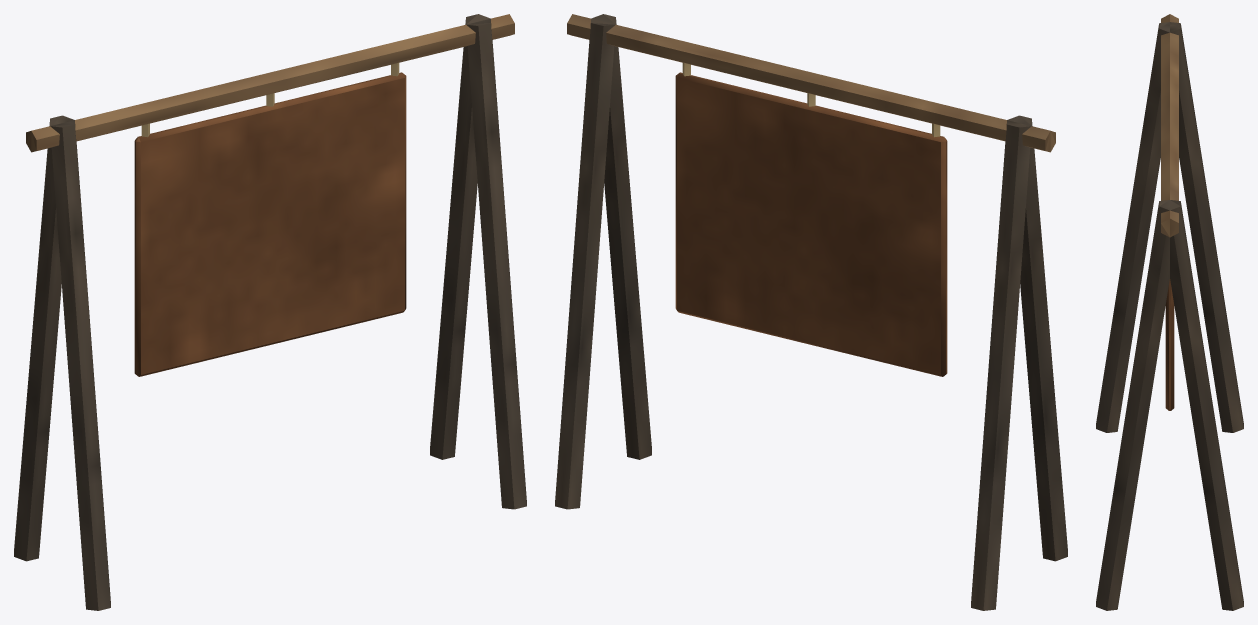
Rendered from SM_Camp_DryingRack.fbx.
The picture shows the model from 3 angles, left to right: view 1: azimuth 30°, elevation 25°; view 2: azimuth 150°, elevation 25°; view 3: azimuth 270°, elevation 25°; orthographic projection. The views are drawn at different scales.
Visible parts, largest first — view 1: SM_Camp_DryingRack; view 2: SM_Camp_DryingRack; view 3: SM_Camp_DryingRack.
Part boxes in pixels (bbox=[...]): SM_Camp_DryingRack: bbox=[14, 14, 526, 610]; SM_Camp_DryingRack: bbox=[555, 14, 1067, 610]; SM_Camp_DryingRack: bbox=[1096, 14, 1243, 610].
Bounding box in the file's own units: 4.6 × 4.23 × 1.41.
Materials: 1 (1 with a texture image).
